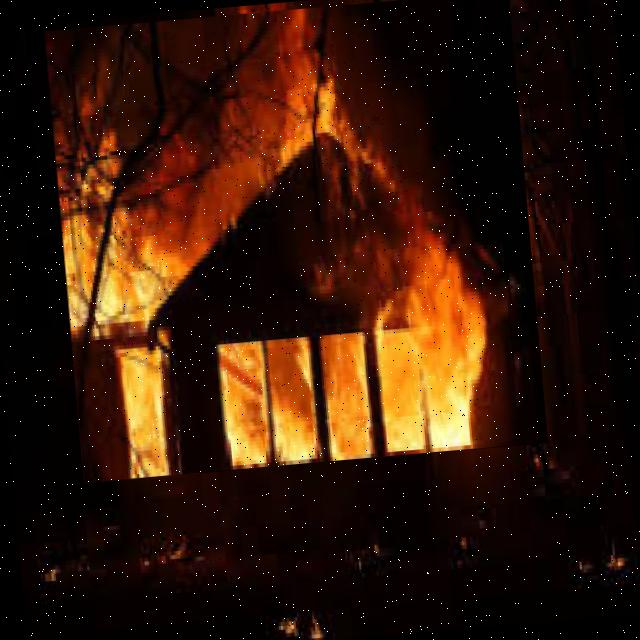fire: (44, 0, 547, 483)
